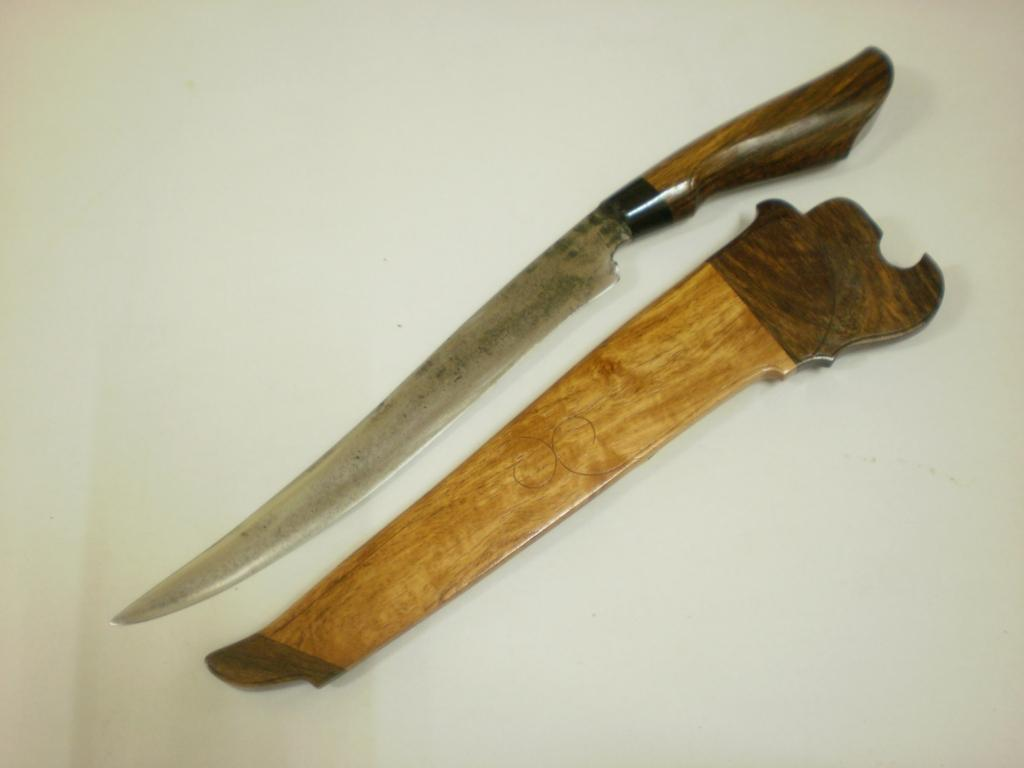facao: (112, 33, 898, 716)
